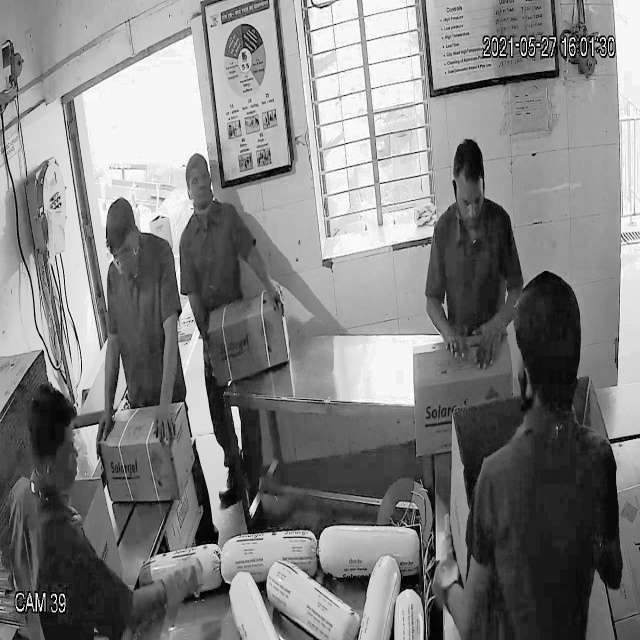Sin_gafas: (448, 180, 488, 216), (183, 166, 216, 193)
